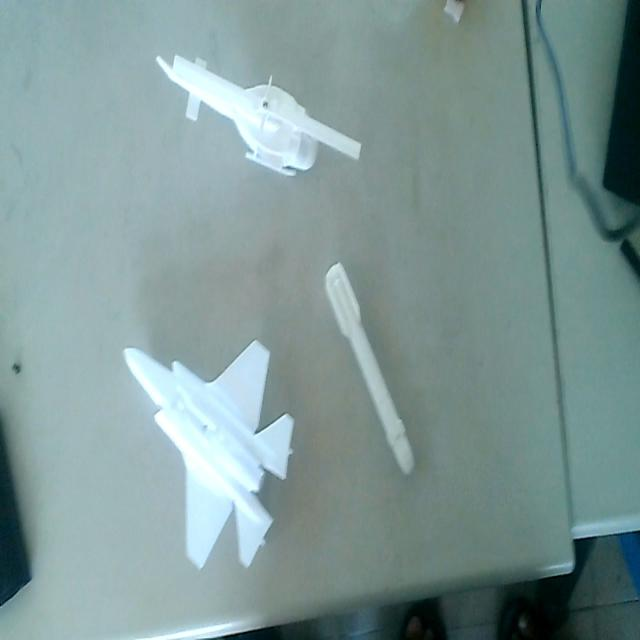Helicopter: (154, 38, 364, 186)
Jet: (121, 334, 296, 582)
Rocket: (324, 254, 416, 476)
